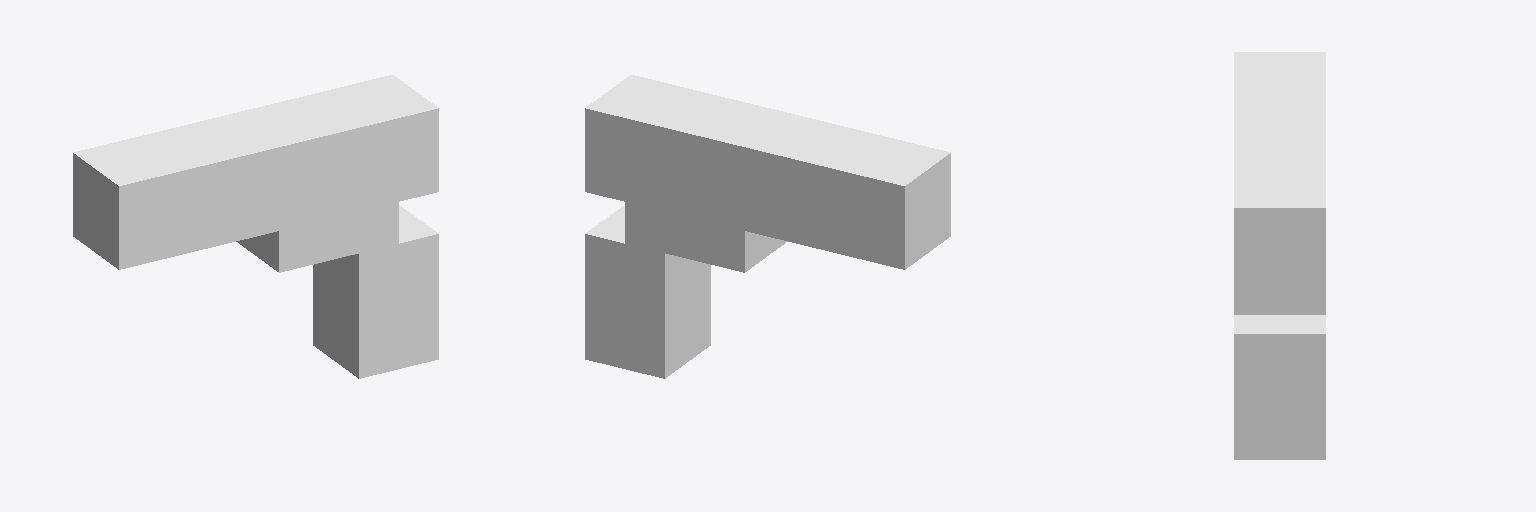
Rendered from glock17.obj.
3 renders of one model, left to right at view 1: azimuth 30°, elevation 25°; view 2: azimuth 150°, elevation 25°; view 3: azimuth 270°, elevation 25°, orthographic.
Visible parts, largest first — view 1: object 1; view 2: object 1; view 3: object 1.
Boxes of the visible parts, x1,y1,x2,y2 form: object 1: [73, 75, 438, 378]; object 1: [585, 75, 950, 378]; object 1: [1234, 52, 1325, 459].
Size of the model in its own units: 0.8 by 0.6 by 0.2.